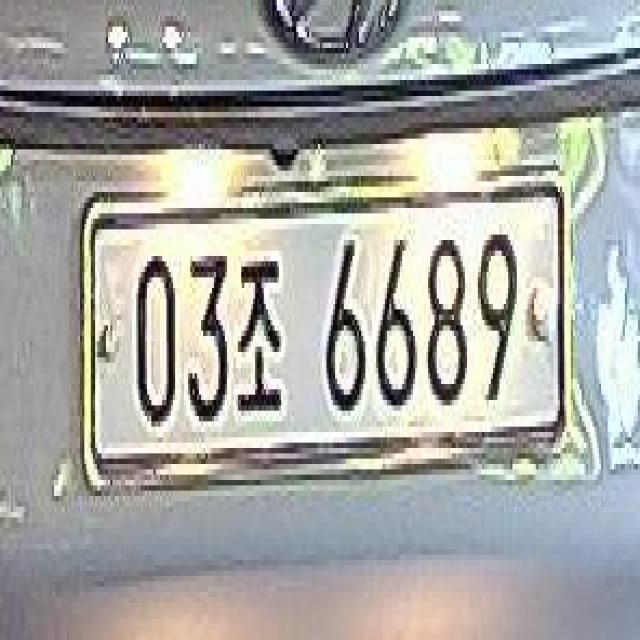illegal_plate: (85, 171, 570, 489)
